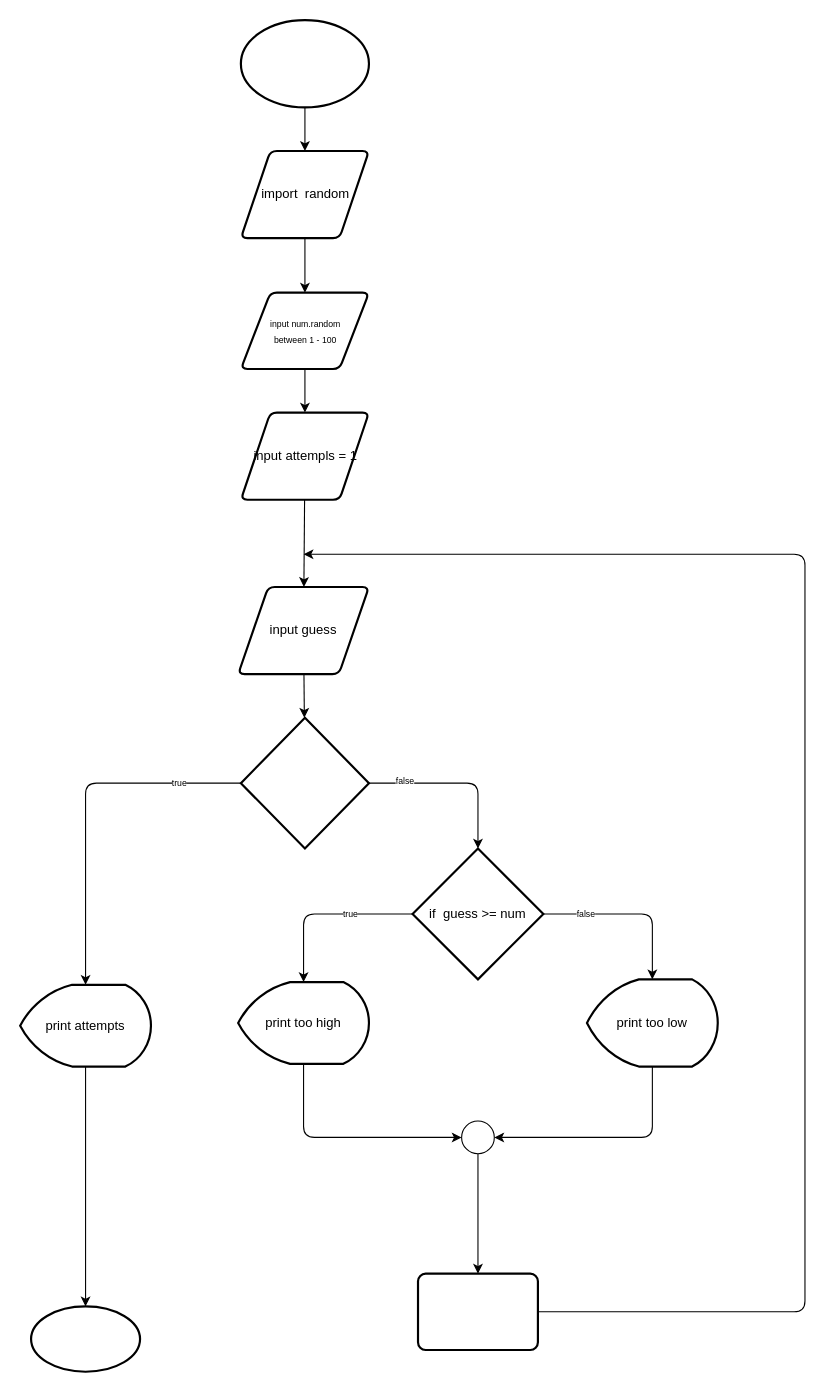
Some shapes in this 833 by 1391 pixel diagram are drawn without their labels. Each missing label, with the centre of its shape:
attempts += 1: point (477, 1311)
end: point (85, 1338)
if guess == num: point (304, 782)
start: point (304, 63)
